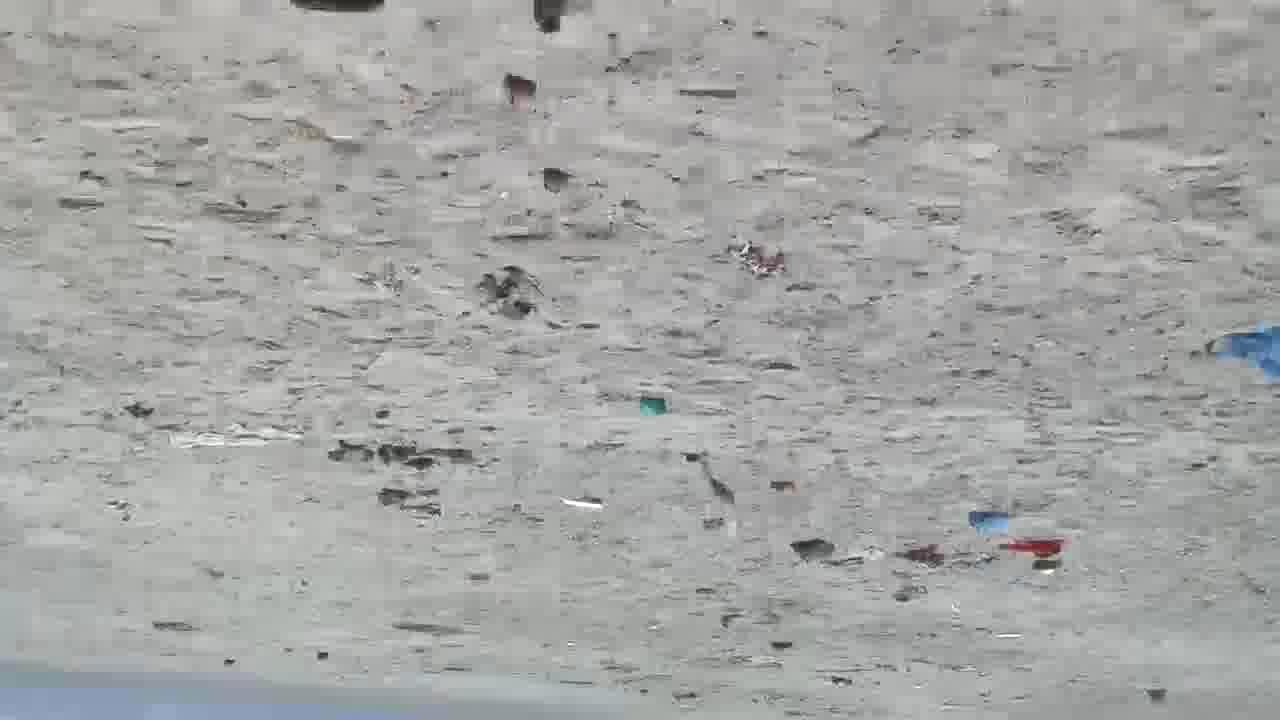obj: (162, 413, 292, 452), (1209, 324, 1279, 377), (332, 443, 475, 468), (482, 266, 538, 322), (684, 452, 734, 505), (726, 243, 786, 280), (527, 1, 569, 41), (889, 542, 950, 569), (786, 536, 844, 564), (507, 74, 543, 118), (374, 487, 441, 508), (294, 1, 391, 14), (995, 537, 1069, 554), (638, 384, 674, 415), (542, 168, 574, 197), (969, 512, 1010, 530), (560, 496, 603, 510)
sand/background: (0, 650, 473, 719)
